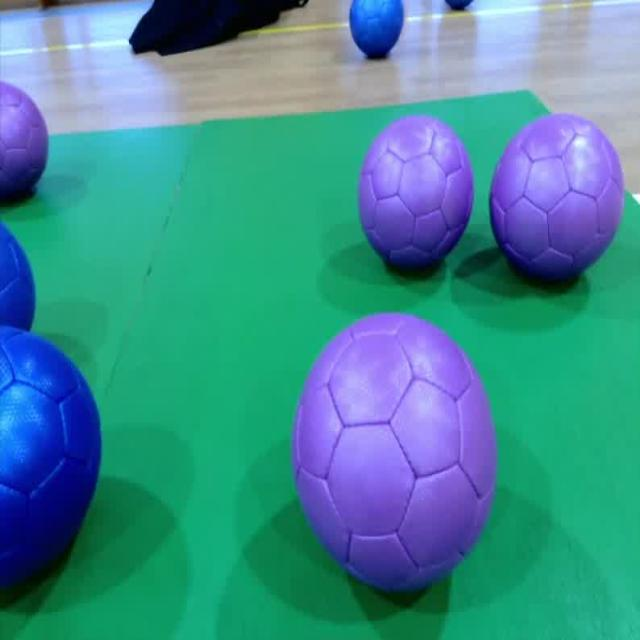blue_ball: (0, 322, 103, 596), (0, 221, 36, 342), (348, 0, 402, 60)
purple_ball: (290, 310, 502, 598), (492, 115, 625, 285), (355, 112, 475, 272), (0, 80, 55, 197)
